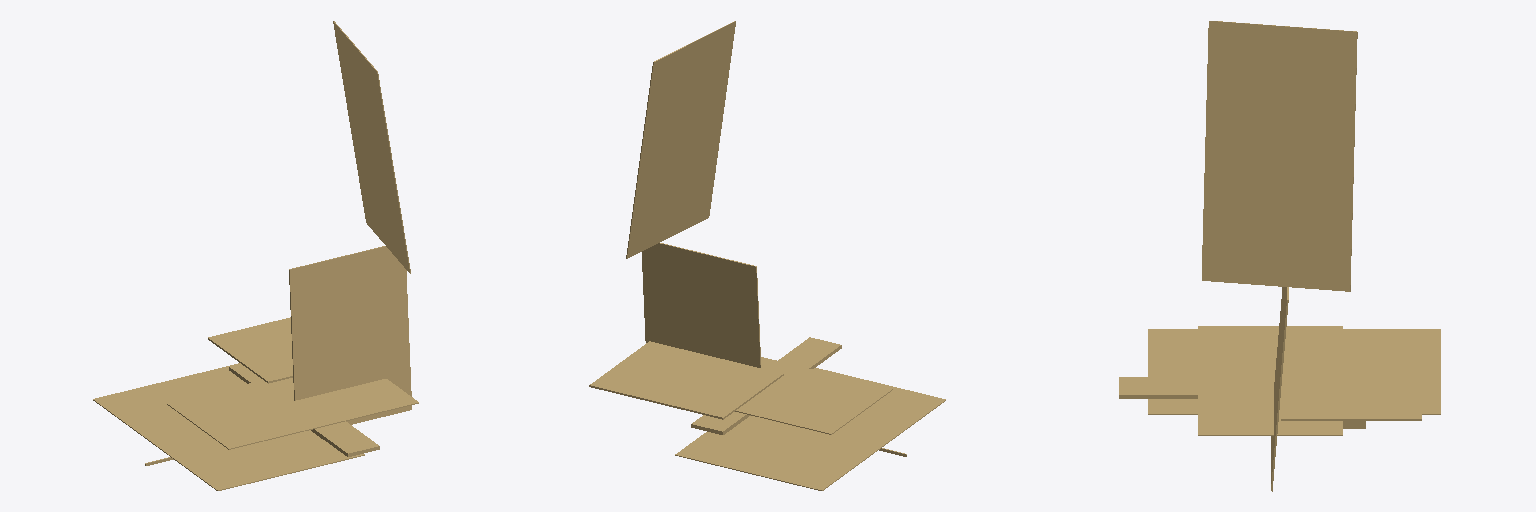
URDF robot description (evolved_design):
<?xml version="1.0" ?>
<robot name="evolved_design">
  <link name="base_link">
    <inertial>
      <mass value="0.001"/>
      <origin xyz="0 0 0" rpy="0 0 0"/>
      <inertia ixx="0.000001" ixy="0" ixz="0" iyy="0.000001" iyz="0" izz="0.000001"/>
    </inertial>
  </link>
  <link name="link_comp_0">
    <inertial>
      <mass value="0.601137"/>
      <origin xyz="0 0 0" rpy="0 0 0"/>
      <inertia ixx="0.009528798" ixy="0" ixz="0" iyy="0.000623806" iyz="0" izz="0.008941351"/>
    </inertial>
    <visual>
      <origin xyz="0 0 0" rpy="0 0 0"/>
      <geometry>
        <box size="0.019050 0.422050 0.109953"/>
      </geometry>
      <material name="link_comp_0_material">
        <color rgba="0.8 0.7 0.5 1"/>
      </material>
    </visual>
    <collision>
      <origin xyz="0 0 0" rpy="0 0 0"/>
      <geometry>
        <box size="0.019050 0.422050 0.109953"/>
      </geometry>
    </collision>
  </link>
  <joint name="base_link_to_link_comp_0" type="fixed">
    <parent link="base_link"/>
    <child link="link_comp_0"/>
    <origin xyz="0.009525 0.211025 0.054976" rpy="0.000000 0.000000 0.000000"/>
  </joint>
  <link name="link_comp_1">
    <inertial>
      <mass value="0.914854"/>
      <origin xyz="0 0 0" rpy="0 0 0"/>
      <inertia ixx="0.047362107" ixy="0" ixz="0" iyy="0.022035863" iyz="0" izz="0.069396432"/>
    </inertial>
    <visual>
      <origin xyz="0 0 0" rpy="0 0 0"/>
      <geometry>
        <box size="0.537616 0.788182 0.003175"/>
      </geometry>
      <material name="link_comp_1_material">
        <color rgba="0.8 0.7 0.5 1"/>
      </material>
    </visual>
    <collision>
      <origin xyz="0 0 0" rpy="0 0 0"/>
      <geometry>
        <box size="0.537616 0.788182 0.003175"/>
      </geometry>
    </collision>
  </link>
  <joint name="base_link_to_link_comp_1" type="fixed">
    <parent link="base_link"/>
    <child link="link_comp_1"/>
    <origin xyz="-0.208602 0.228147 0.062099" rpy="0.000000 0.000000 0.000000"/>
  </joint>
  <link name="link_comp_2">
    <inertial>
      <mass value="0.752391"/>
      <origin xyz="0 0 0" rpy="0 0 0"/>
      <inertia ixx="0.035443700" ixy="0" ixz="0" iyy="0.000852228" iyz="0" izz="0.036275702"/>
    </inertial>
    <visual>
      <origin xyz="0 0 0" rpy="0 0 0"/>
      <geometry>
        <box size="0.115892 0.751755 0.012700"/>
      </geometry>
      <material name="link_comp_2_material">
        <color rgba="0.8 0.7 0.5 1"/>
      </material>
    </visual>
    <collision>
      <origin xyz="0 0 0" rpy="0 0 0"/>
      <geometry>
        <box size="0.115892 0.751755 0.012700"/>
      </geometry>
    </collision>
  </link>
  <joint name="base_link_to_link_comp_2" type="fixed">
    <parent link="base_link"/>
    <child link="link_comp_2"/>
    <origin xyz="0.009355 0.131930 0.116803" rpy="0.000000 0.000000 0.000000"/>
  </joint>
  <link name="link_comp_3">
    <inertial>
      <mass value="0.775319"/>
      <origin xyz="0 0 0" rpy="0 0 0"/>
      <inertia ixx="0.020982424" ixy="0" ixz="0" iyy="0.032445728" iyz="0" izz="0.011466219"/>
    </inertial>
    <visual>
      <origin xyz="0 0 0" rpy="0 0 0"/>
      <geometry>
        <box size="0.421243 0.004750 0.569853"/>
      </geometry>
      <material name="link_comp_3_material">
        <color rgba="0.8 0.7 0.5 1"/>
      </material>
    </visual>
    <collision>
      <origin xyz="0 0 0" rpy="0 0 0"/>
      <geometry>
        <box size="0.421243 0.004750 0.569853"/>
      </geometry>
    </collision>
  </link>
  <joint name="base_link_to_link_comp_3" type="fixed">
    <parent link="base_link"/>
    <child link="link_comp_3"/>
    <origin xyz="0.210622 0.188619 0.284927" rpy="-0.076296 0.000000 0.000000"/>
  </joint>
  <link name="link_comp_4">
    <inertial>
      <mass value="0.016506"/>
      <origin xyz="0 0 0" rpy="0 0 0"/>
      <inertia ixx="0.000000156" ixy="0" ixz="0" iyy="0.000396105" iyz="0" izz="0.000396012"/>
    </inertial>
    <visual>
      <origin xyz="0 0 0" rpy="0 0 0"/>
      <geometry>
        <box size="0.536540 0.004750 0.009525"/>
      </geometry>
      <material name="link_comp_4_material">
        <color rgba="0.8 0.7 0.5 1"/>
      </material>
    </visual>
    <collision>
      <origin xyz="0 0 0" rpy="0 0 0"/>
      <geometry>
        <box size="0.536540 0.004750 0.009525"/>
      </geometry>
    </collision>
  </link>
  <joint name="base_link_to_link_comp_4" type="fixed">
    <parent link="base_link"/>
    <child link="link_comp_4"/>
    <origin xyz="-0.268770 0.187813 0.024184" rpy="0.000000 0.000000 0.000000"/>
  </joint>
  <link name="link_comp_5">
    <inertial>
      <mass value="0.805765"/>
      <origin xyz="0 0 0" rpy="0 0 0"/>
      <inertia ixx="0.009749813" ixy="0" ixz="0" iyy="0.016110251" iyz="0" izz="0.025854649"/>
    </inertial>
    <visual>
      <origin xyz="0 0 0" rpy="0 0 0"/>
      <geometry>
        <box size="0.489780 0.380999 0.006350"/>
      </geometry>
      <material name="link_comp_5_material">
        <color rgba="0.8 0.7 0.5 1"/>
      </material>
    </visual>
    <collision>
      <origin xyz="0 0 0" rpy="0 0 0"/>
      <geometry>
        <box size="0.489780 0.380999 0.006350"/>
      </geometry>
    </collision>
  </link>
  <joint name="base_link_to_link_comp_5" type="fixed">
    <parent link="base_link"/>
    <child link="link_comp_5"/>
    <origin xyz="0.157400 0.381994 0.203558" rpy="0.000000 0.000000 0.000000"/>
  </joint>
  <link name="link_comp_6">
    <inertial>
      <mass value="0.641104"/>
      <origin xyz="0 0 0" rpy="0 0 0"/>
      <inertia ixx="0.037302975" ixy="0" ixz="0" iyy="0.028460161" iyz="0" izz="0.008843891"/>
    </inertial>
    <visual>
      <origin xyz="0 0 0" rpy="0 0 0"/>
      <geometry>
        <box size="0.003175 0.406851 0.729862"/>
      </geometry>
      <material name="link_comp_6_material">
        <color rgba="0.8 0.7 0.5 1"/>
      </material>
    </visual>
    <collision>
      <origin xyz="0 0 0" rpy="0 0 0"/>
      <geometry>
        <box size="0.003175 0.406851 0.729862"/>
      </geometry>
    </collision>
  </link>
  <joint name="base_link_to_link_comp_6" type="fixed">
    <parent link="base_link"/>
    <child link="link_comp_6"/>
    <origin xyz="0.288785 0.188091 0.935285" rpy="0.000000 -0.153479 -0.174028"/>
  </joint>
  <link name="link_comp_7">
    <inertial>
      <mass value="0.630815"/>
      <origin xyz="0 0 0" rpy="0 0 0"/>
      <inertia ixx="0.008021506" ixy="0" ixz="0" iyy="0.025216287" iyz="0" izz="0.033236557"/>
    </inertial>
    <visual>
      <origin xyz="0 0 0" rpy="0 0 0"/>
      <geometry>
        <box size="0.692588 0.390617 0.003429"/>
      </geometry>
      <material name="link_comp_7_material">
        <color rgba="0.8 0.7 0.5 1"/>
      </material>
    </visual>
    <collision>
      <origin xyz="0 0 0" rpy="0 0 0"/>
      <geometry>
        <box size="0.692588 0.390617 0.003429"/>
      </geometry>
    </collision>
  </link>
  <joint name="base_link_to_link_comp_7" type="fixed">
    <parent link="base_link"/>
    <child link="link_comp_7"/>
    <origin xyz="-0.012932 0.162966 0.125367" rpy="0.000000 0.000000 0.000000"/>
  </joint>
</robot>

--- Render facts (derived) ---
3 views of the same robot in one strip: view 1: azimuth 30°, elevation 25°; view 2: azimuth 150°, elevation 25°; view 3: azimuth 270°, elevation 25° (orthographic).
Model evolved_design with 9 links and 8 joints (8 fixed), rooted at base_link, posed every joint at zero.
Links seen in each view (by area): view 1: link_comp_3, link_comp_1, link_comp_7, link_comp_6, link_comp_5, link_comp_2; view 2: link_comp_6, link_comp_1, link_comp_3, link_comp_5, link_comp_7, link_comp_2; view 3: link_comp_6, link_comp_5, link_comp_7, link_comp_1, link_comp_2, link_comp_3.
Boxes of the visible links, x1,y1,x2,y2 form: link_comp_3: (289, 246, 411, 424); link_comp_1: (93, 363, 364, 490); link_comp_7: (167, 378, 418, 449); link_comp_6: (333, 21, 410, 273); link_comp_5: (208, 317, 292, 383); link_comp_2: (229, 364, 379, 456); link_comp_6: (626, 21, 735, 258); link_comp_1: (675, 368, 945, 490); link_comp_3: (642, 243, 760, 367); link_comp_5: (589, 341, 783, 419); link_comp_7: (735, 357, 892, 434); link_comp_2: (691, 337, 841, 434); link_comp_6: (1202, 21, 1357, 291); link_comp_5: (1281, 342, 1421, 420); link_comp_7: (1198, 326, 1342, 435); link_comp_1: (1148, 329, 1440, 414); link_comp_2: (1119, 377, 1197, 398); link_comp_3: (1271, 287, 1288, 491).
Bounding box of the posed robot: 0.9583 × 0.8662 × 1.3 m (x, y, z).
Geometry: primitives only (box / cylinder / sphere), no mesh files.